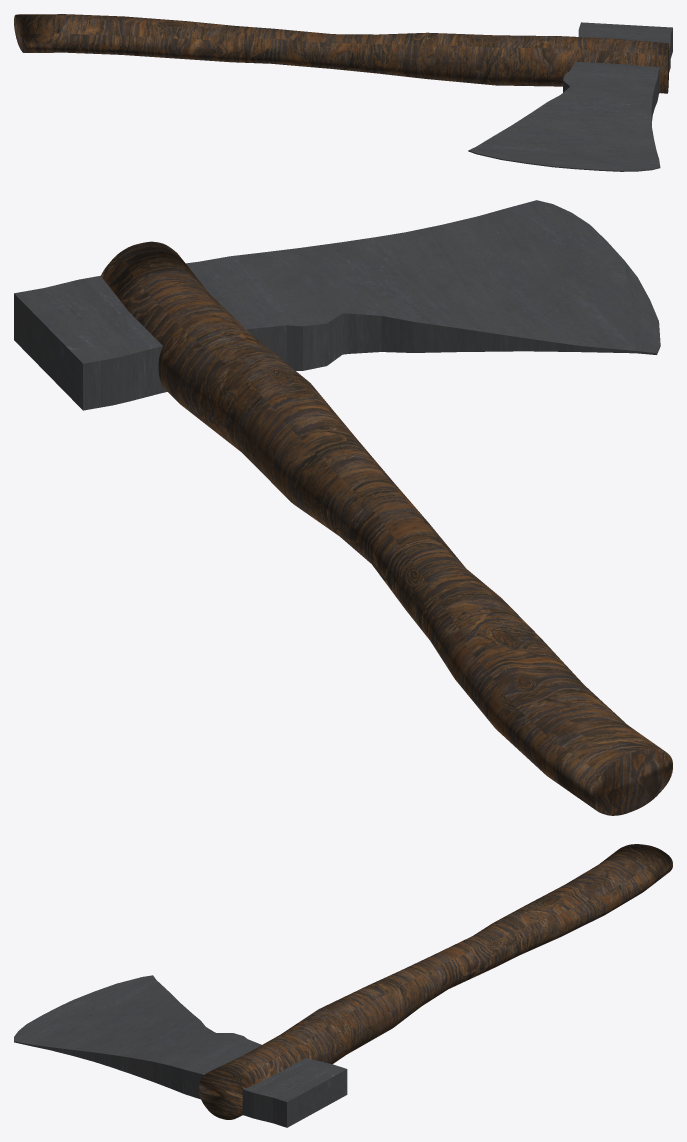
The model's file is hache_king_size.fbx.
3 views of the same model, one above another, from view 1: azimuth 30°, elevation 25°; view 2: azimuth 150°, elevation 25°; view 3: azimuth 270°, elevation 25° (orthographic). The views are drawn at different scales.
Visible parts, largest first — view 1: Tranchant; view 2: Tranchant; view 3: Tranchant.
Boxes of the visible parts, x1,y1,x2,y2 form: Tranchant: (14, 14, 672, 171); Tranchant: (14, 200, 672, 815); Tranchant: (14, 844, 672, 1127).
Size of the model in its own units: 541 by 47.11 by 587.
Materials: 2 (2 with a texture image).
